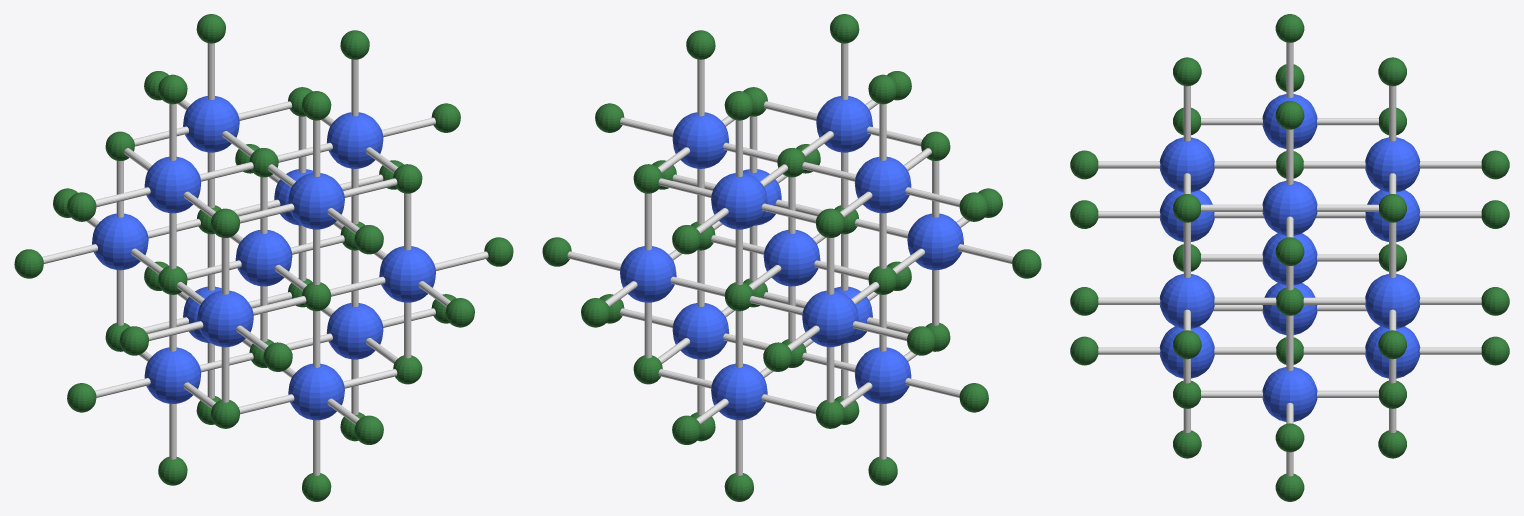
File: asset.glb
3 renders of one model, left to right at view 1: azimuth 30°, elevation 25°; view 2: azimuth 150°, elevation 25°; view 3: azimuth 270°, elevation 25°, orthographic. The views are drawn at different scales.
Visible parts, largest first — view 1: atom1_Sphere.007_atom1_Sphere, atom1_Sphere.009_atom1_Sphere, atom1_Sphere, atom1_Sphere.001_atom1_Sphere, atom1_Sphere.012_atom1_Sphere, atom1_Sphere.011_atom1_Sphere, atom1_Sphere.004_atom1_Sphere, atom1_Sphere.010_atom1_Sphere, atom1_Sphere.005_atom1_Sphere, atom1_Sphere.008_atom1_Sphere, atom1_Sphere.003_atom1_Sphere, atom0_Sphere.033_atom0_Sphere.001 (+25 smaller); view 2: atom1_Sphere.008_atom1_Sphere, atom1_Sphere.009_atom1_Sphere, atom1_Sphere, atom1_Sphere.002_atom1_Sphere, atom1_Sphere.012_atom1_Sphere, atom1_Sphere.011_atom1_Sphere, atom1_Sphere.003_atom1_Sphere, atom1_Sphere.010_atom1_Sphere, atom1_Sphere.006_atom1_Sphere, atom1_Sphere.007_atom1_Sphere, atom1_Sphere.004_atom1_Sphere, atom0_Sphere.033_atom0_Sphere.001 (+25 smaller); view 3: atom1_Sphere.009_atom1_Sphere, atom1_Sphere.010_atom1_Sphere, atom1_Sphere.003_atom1_Sphere, atom1_Sphere.004_atom1_Sphere, atom1_Sphere.005_atom1_Sphere, atom1_Sphere.006_atom1_Sphere, atom1_Sphere.012_atom1_Sphere, atom1_Sphere, atom1_Sphere.001_atom1_Sphere, atom1_Sphere.002_atom1_Sphere, atom1_Sphere.007_atom1_Sphere, atom1_Sphere.008_atom1_Sphere (+50 smaller).
Boxes of the visible parts, x1=… form: atom1_Sphere.007_atom1_Sphere: x1=197, y1=290, x2=253, y2=347; atom1_Sphere.009_atom1_Sphere: x1=326, y1=303, x2=383, y2=359; atom1_Sphere: x1=235, y1=230, x2=292, y2=286; atom1_Sphere.001_atom1_Sphere: x1=288, y1=363, x2=344, y2=420; atom1_Sphere.012_atom1_Sphere: x1=144, y1=156, x2=201, y2=213; atom1_Sphere.011_atom1_Sphere: x1=144, y1=347, x2=200, y2=403; atom1_Sphere.004_atom1_Sphere: x1=183, y1=96, x2=239, y2=152; atom1_Sphere.010_atom1_Sphere: x1=327, y1=112, x2=383, y2=168; atom1_Sphere.005_atom1_Sphere: x1=379, y1=246, x2=435, y2=302; atom1_Sphere.008_atom1_Sphere: x1=92, y1=213, x2=148, y2=270; atom1_Sphere.003_atom1_Sphere: x1=288, y1=173, x2=344, y2=229; atom0_Sphere.033_atom0_Sphere.001: x1=340, y1=30, x2=369, y2=59; atom1_Sphere.008_atom1_Sphere: x1=802, y1=290, x2=858, y2=347; atom1_Sphere.009_atom1_Sphere: x1=672, y1=303, x2=729, y2=359; atom1_Sphere: x1=763, y1=230, x2=820, y2=286; atom1_Sphere.002_atom1_Sphere: x1=711, y1=363, x2=767, y2=420; atom1_Sphere.012_atom1_Sphere: x1=854, y1=156, x2=911, y2=213; atom1_Sphere.011_atom1_Sphere: x1=855, y1=347, x2=911, y2=403; atom1_Sphere.003_atom1_Sphere: x1=816, y1=96, x2=872, y2=152; atom1_Sphere.010_atom1_Sphere: x1=672, y1=112, x2=728, y2=168; atom1_Sphere.006_atom1_Sphere: x1=620, y1=246, x2=676, y2=302; atom1_Sphere.007_atom1_Sphere: x1=907, y1=213, x2=963, y2=270; atom1_Sphere.004_atom1_Sphere: x1=711, y1=173, x2=767, y2=229; atom0_Sphere.033_atom0_Sphere.001: x1=686, y1=30, x2=715, y2=59; atom1_Sphere.009_atom1_Sphere: x1=1262, y1=367, x2=1317, y2=421; atom1_Sphere.010_atom1_Sphere: x1=1262, y1=181, x2=1317, y2=235; atom1_Sphere.003_atom1_Sphere: x1=1159, y1=137, x2=1214, y2=192; atom1_Sphere.004_atom1_Sphere: x1=1365, y1=137, x2=1420, y2=192; atom1_Sphere.005_atom1_Sphere: x1=1159, y1=274, x2=1214, y2=328; atom1_Sphere.006_atom1_Sphere: x1=1365, y1=274, x2=1420, y2=328; atom1_Sphere.012_atom1_Sphere: x1=1262, y1=94, x2=1317, y2=148; atom1_Sphere: x1=1262, y1=233, x2=1317, y2=285; atom1_Sphere.001_atom1_Sphere: x1=1159, y1=326, x2=1214, y2=378; atom1_Sphere.002_atom1_Sphere: x1=1365, y1=326, x2=1420, y2=378; atom1_Sphere.007_atom1_Sphere: x1=1159, y1=190, x2=1214, y2=241; atom1_Sphere.008_atom1_Sphere: x1=1365, y1=190, x2=1420, y2=241.
Bounding box in the file's own units: 12.04 × 12.04 × 12.04.
